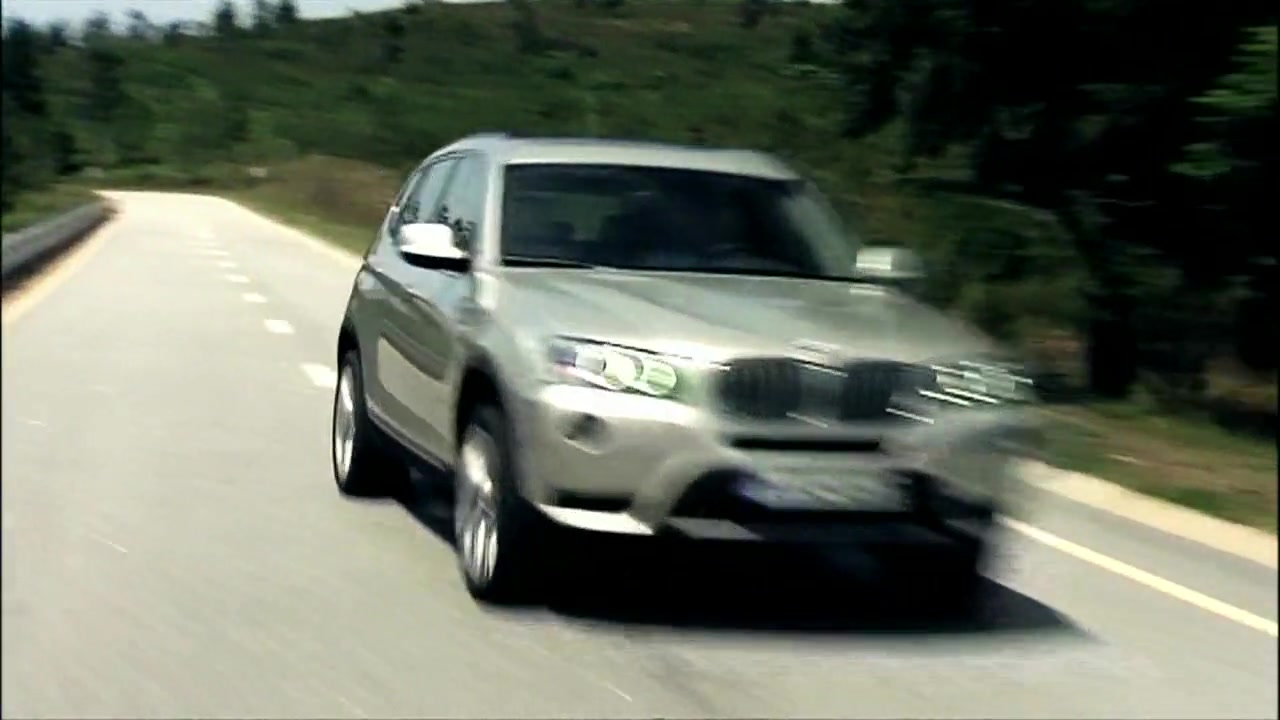car: (328, 134, 1032, 611)
